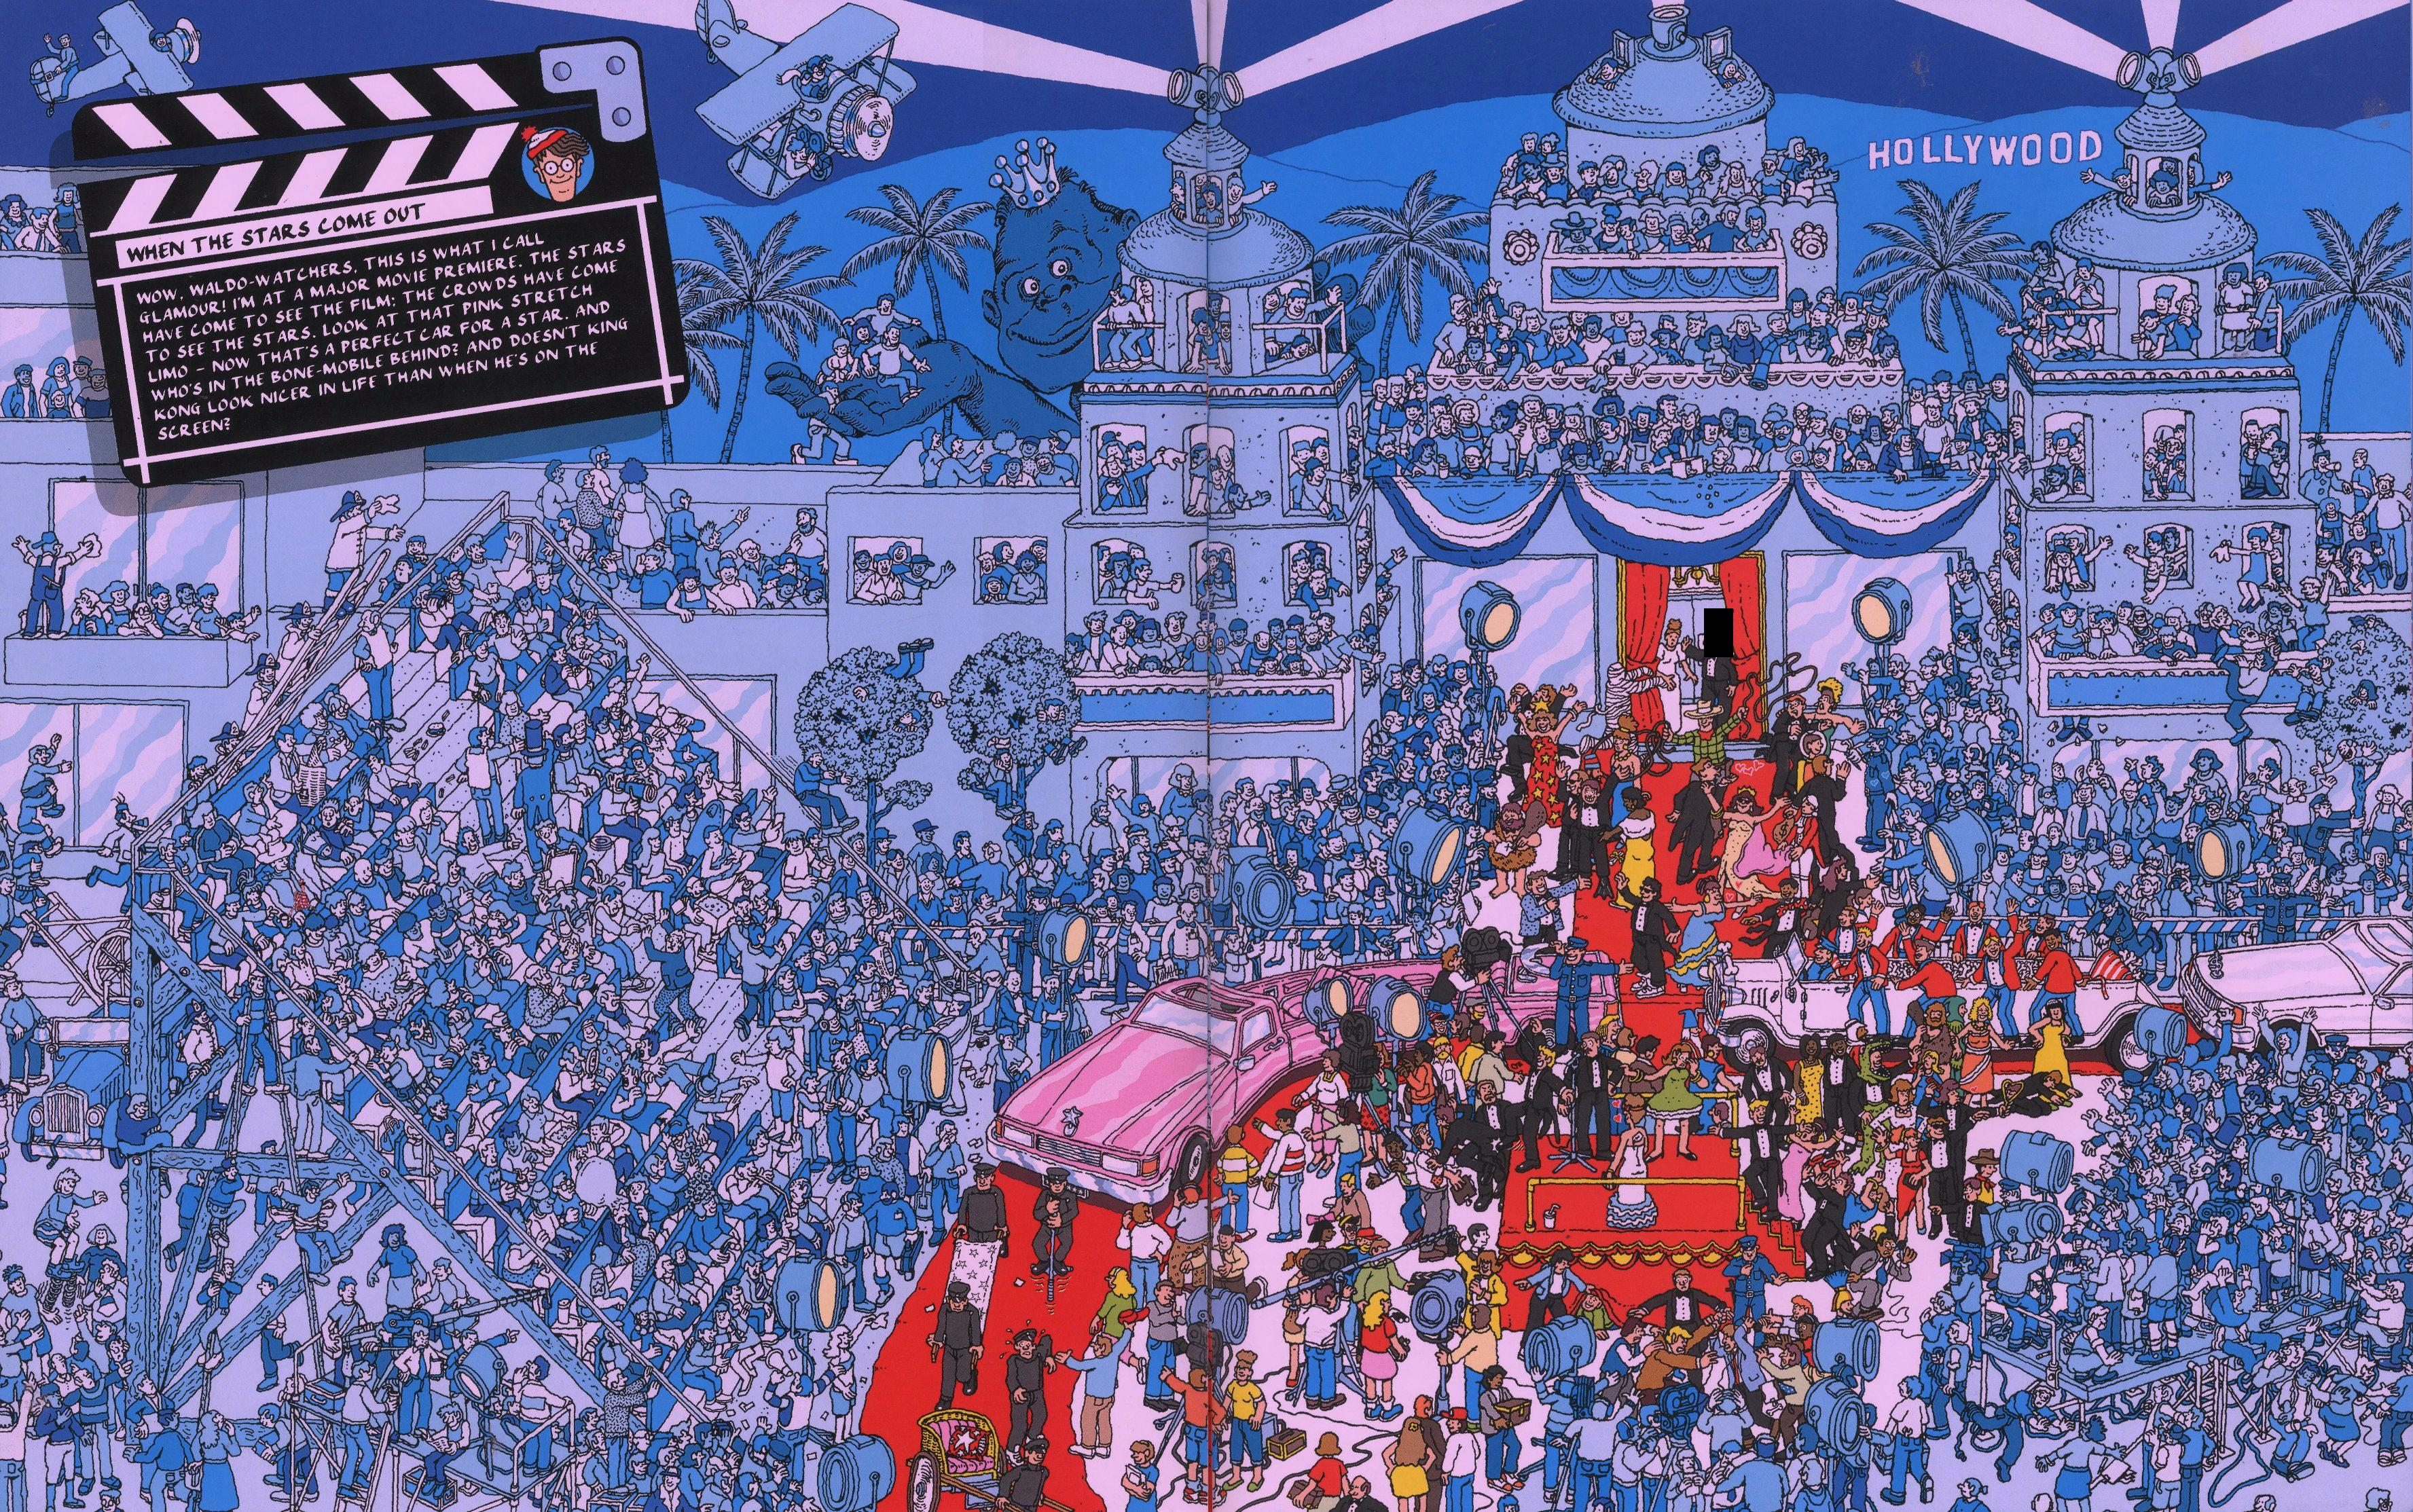waldos: (287, 878, 317, 927)
